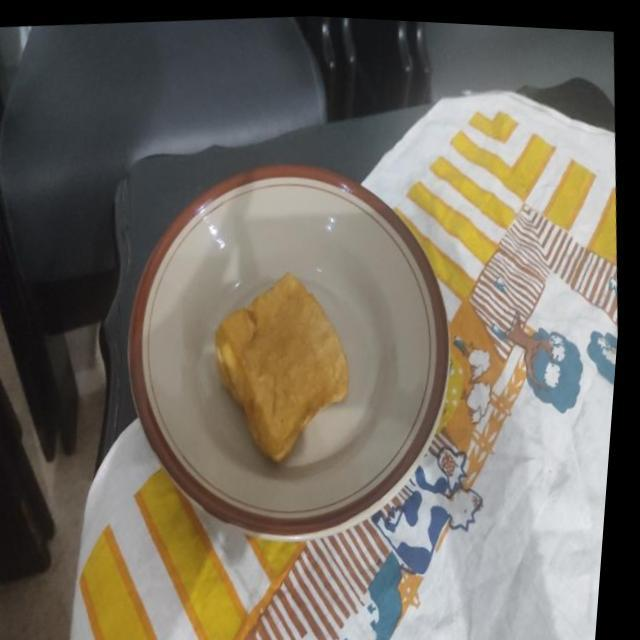tahu_goreng: (214, 272, 348, 462)
